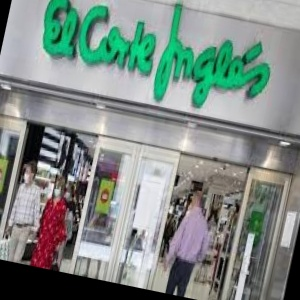corte_ingles: (259, 7, 300, 61)
